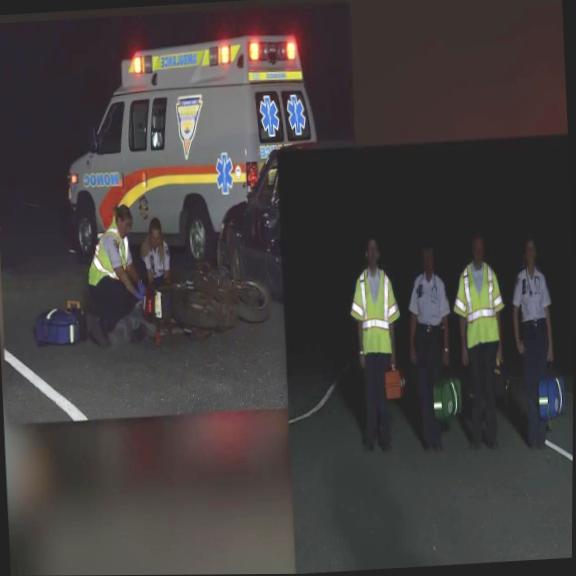safety_vest: (349, 266, 405, 355), (450, 261, 507, 346), (83, 223, 133, 287)
